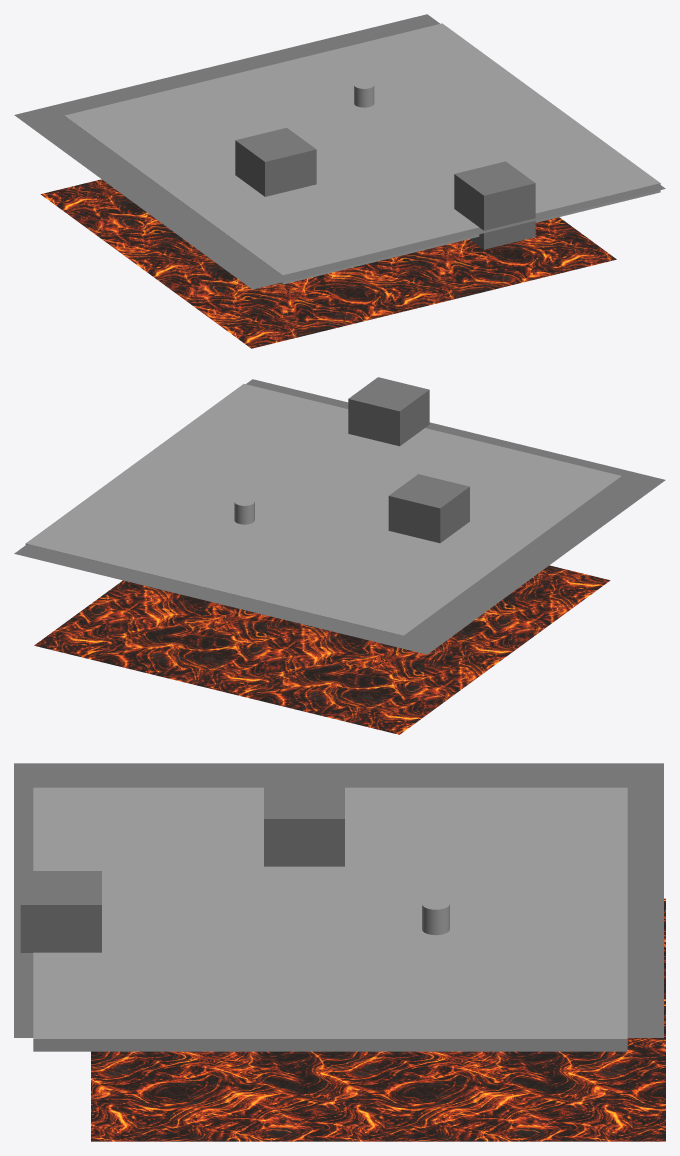
Rendered from shadows.fbx.
The picture shows the model from 3 angles, top to bottom: view 1: azimuth 30°, elevation 25°; view 2: azimuth 150°, elevation 25°; view 3: azimuth 270°, elevation 25°; orthographic projection. The views are drawn at different scales.
Visible parts, largest first — view 1: pCube3, Lava1, pPlane1, pasted__pCube4, pCube4, Player; view 2: pCube3, Lava1, pPlane1, pCube4, pasted__pCube4, Player; view 3: pCube3, Lava1, pPlane1, pasted__pCube4, pCube4, Player.
Boxes of the visible parts, bbox=[...] form: pCube3: bbox=[64, 23, 660, 284]; Lava1: bbox=[40, 179, 616, 348]; pPlane1: bbox=[14, 14, 665, 289]; pasted__pCube4: bbox=[454, 161, 535, 249]; pCube4: bbox=[235, 127, 316, 196]; Player: bbox=[354, 80, 374, 107]; pCube3: bbox=[25, 384, 621, 635]; Lava1: bbox=[34, 565, 610, 734]; pPlane1: bbox=[14, 379, 665, 654]; pCube4: bbox=[388, 474, 469, 543]; pasted__pCube4: bbox=[348, 377, 429, 446]; Player: bbox=[234, 497, 254, 524]; pCube3: bbox=[33, 787, 627, 1051]; Lava1: bbox=[91, 898, 665, 1141]; pPlane1: bbox=[14, 763, 663, 1037]; pasted__pCube4: bbox=[20, 871, 101, 952]; pCube4: bbox=[264, 784, 344, 866]; Player: bbox=[422, 898, 449, 935].
Bounding box in the file's own units: 46.54 × 13 × 46.48.
